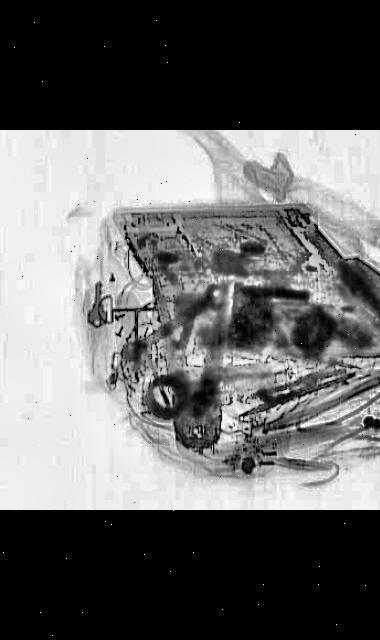Pliers: (152, 270, 240, 448)
Wrench: (110, 282, 240, 362)
